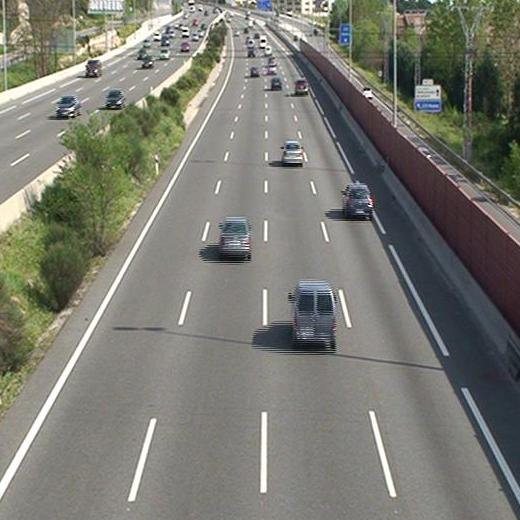car: (217, 216, 252, 256), (342, 184, 374, 218), (280, 141, 305, 165), (294, 79, 310, 93), (270, 76, 284, 90), (266, 61, 279, 73), (250, 66, 261, 78)
van: (287, 282, 337, 348)
